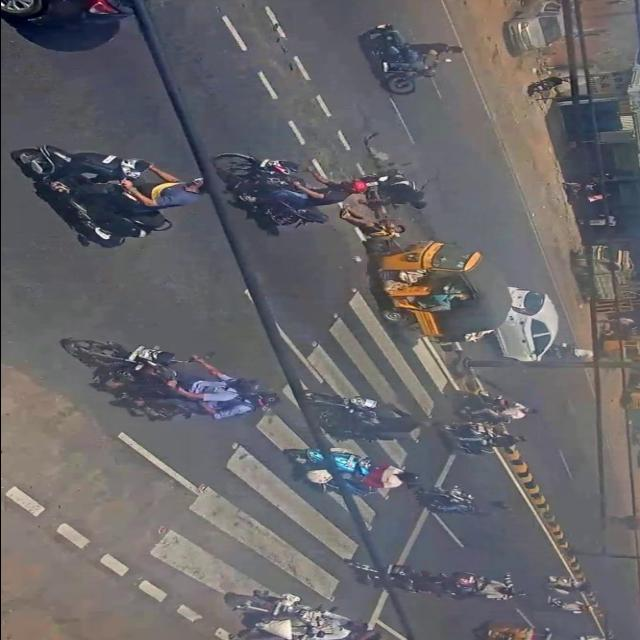accident: (334, 128, 510, 344)
